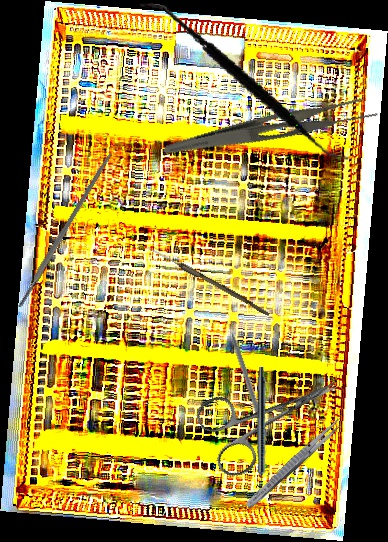Dressing Forceps: (161, 84, 381, 179), (243, 414, 346, 512)
Handpiece: (255, 367, 266, 495)
Hook Surgical: (225, 319, 270, 438)
Iris Scissors: (192, 350, 354, 482)
Scalpel Handle: (14, 151, 115, 309)
Spatula Surgical: (121, 1, 367, 164)
Surgical Spoon: (145, 244, 272, 317)
